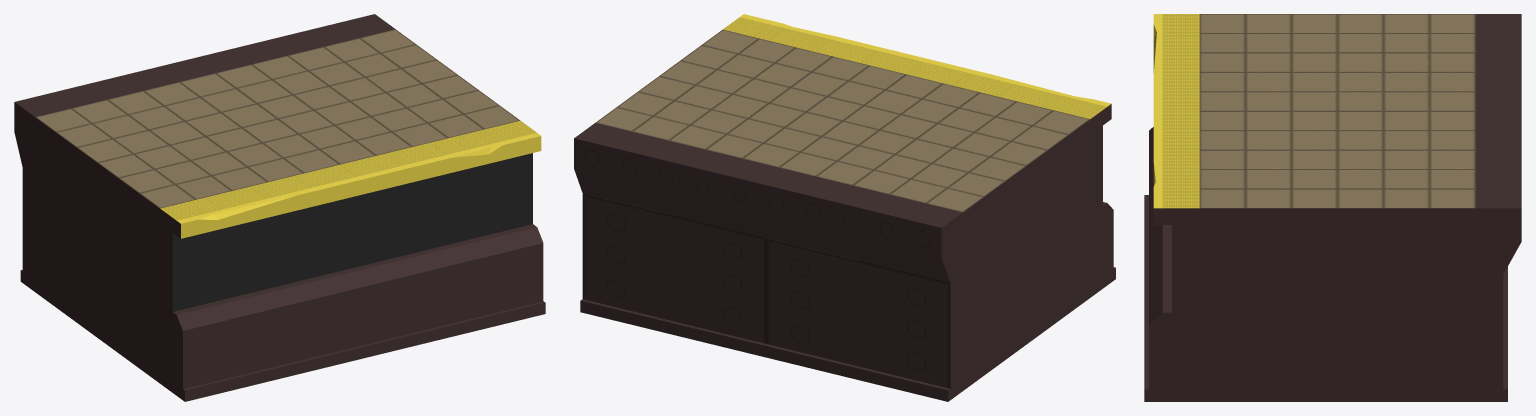
Rendered from SW_ENV_EL_StationBaseShort.fbx.
The picture shows the model from 3 angles, left to right: view 1: azimuth 30°, elevation 25°; view 2: azimuth 150°, elevation 25°; view 3: azimuth 270°, elevation 25°; orthographic projection. The views are drawn at different scales.
Parts seen in each view (by area): view 1: SW_ENV_EL_StationBaseShort; view 2: SW_ENV_EL_StationBaseShort; view 3: SW_ENV_EL_StationBaseShort.
Boxes of the visible parts, left/top/right/bottom form: SW_ENV_EL_StationBaseShort: left=14, top=14, right=545, bottom=401; SW_ENV_EL_StationBaseShort: left=574, top=14, right=1115, bottom=401; SW_ENV_EL_StationBaseShort: left=1144, top=14, right=1521, bottom=401.
Bounding box in the file's own units: 500 × 232 × 410.
